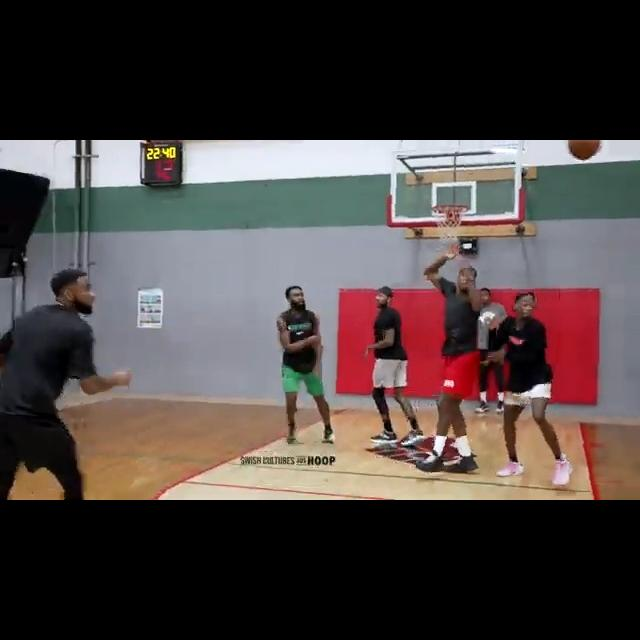basketball: (567, 140, 602, 163)
hoop: (434, 205, 467, 246)
person: (0, 268, 133, 500), (494, 293, 577, 491), (418, 236, 479, 477), (275, 285, 337, 443), (365, 281, 422, 445), (475, 281, 511, 416)
